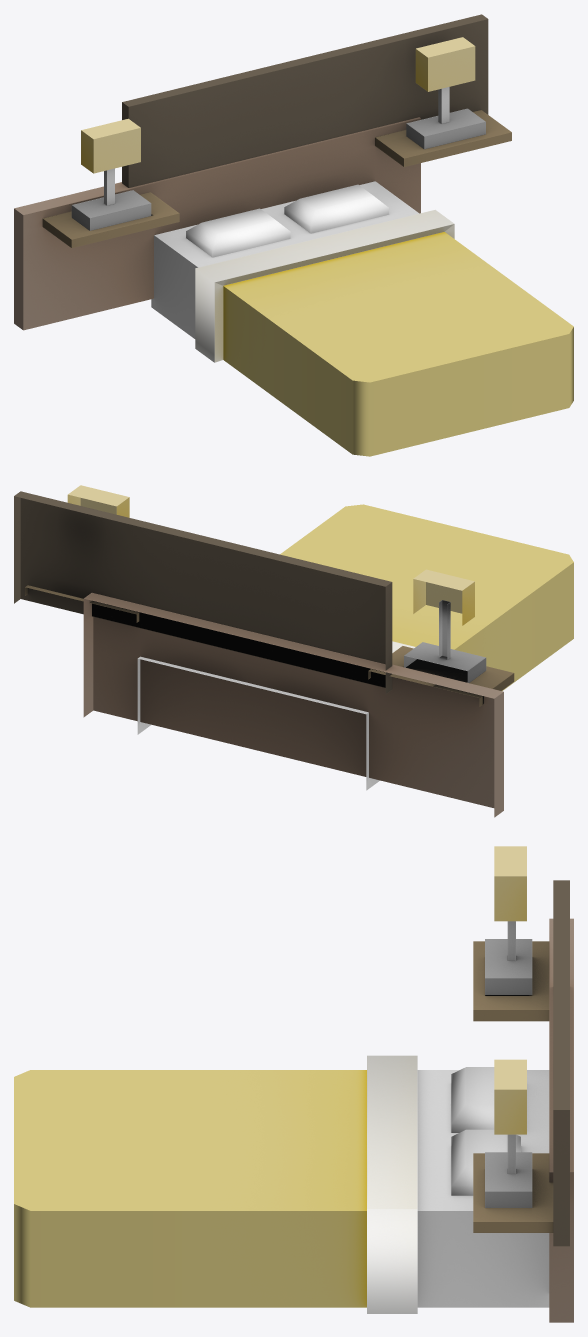
The model's file is Boss Bed.fbx.
3 views of the same model, one above another, from view 1: azimuth 30°, elevation 25°; view 2: azimuth 150°, elevation 25°; view 3: azimuth 270°, elevation 25° (orthographic). The views are drawn at different scales.
Parts seen in each view (by area): view 1: Bed_with_lämps; view 2: Bed_with_lämps; view 3: Bed_with_lämps.
Boxes of the visible parts, box(x1,y1,x2,y2) form: Bed_with_lämps: box(14, 14, 573, 456); Bed_with_lämps: box(14, 485, 573, 817); Bed_with_lämps: box(14, 846, 573, 1322).
Bounding box in the file's own units: 161 × 68.26 × 128.
Materials: 1 (1 with a texture image).
